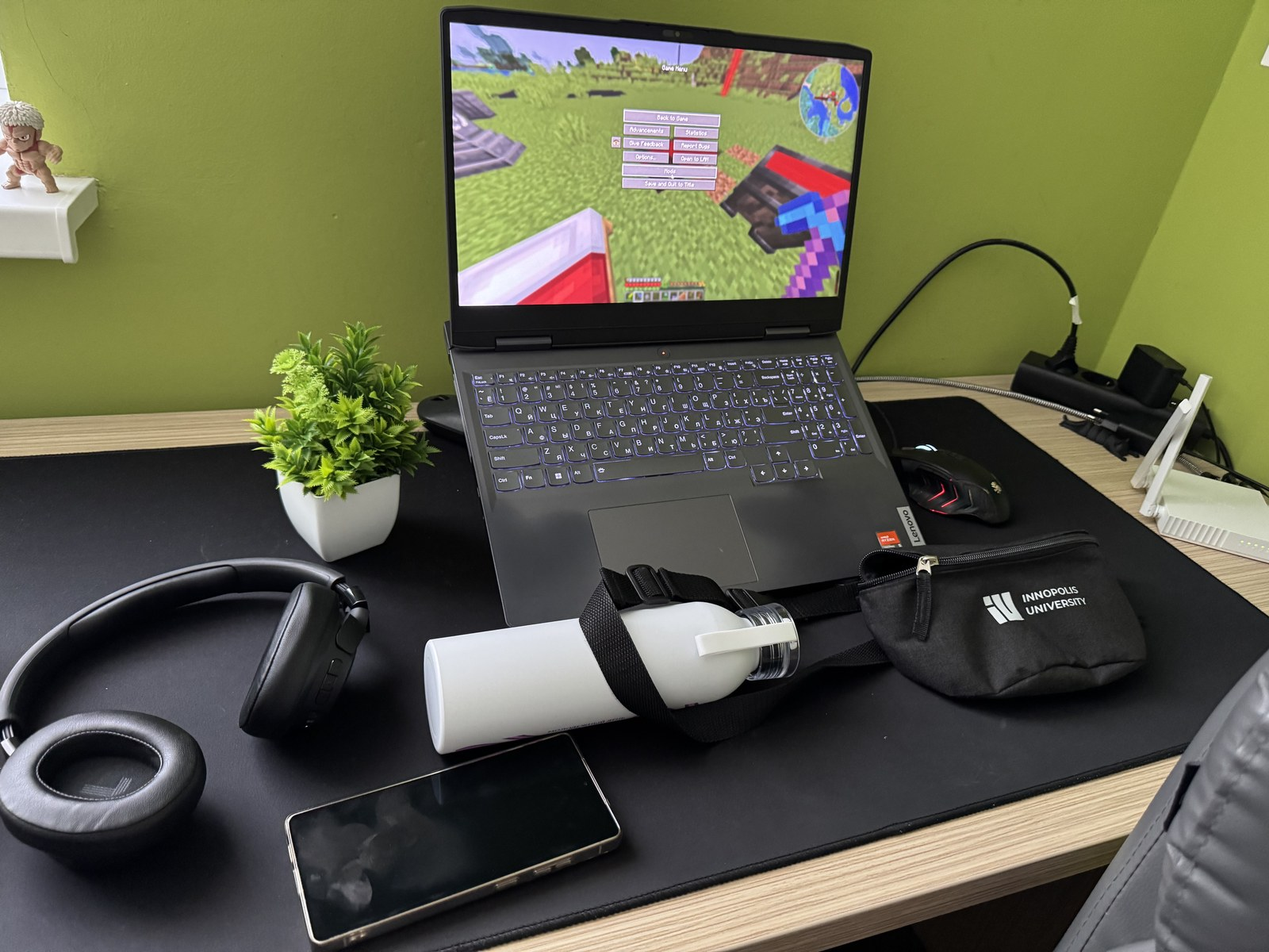cell phone: (283, 731, 623, 949)
laptop: (439, 6, 928, 628)
